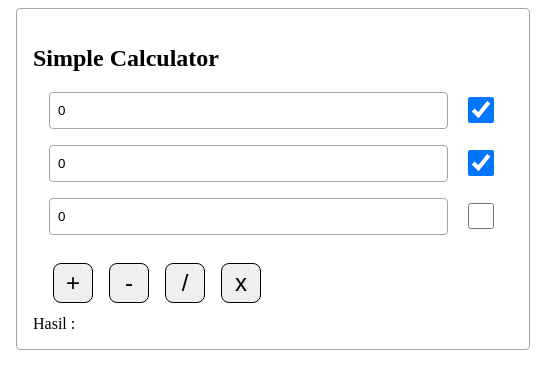
Scenario: test calculator page › test ubahCheck
Type "4" into the field with test id "input1". click: coordinates (249, 110)
box: [49,92,448,129]
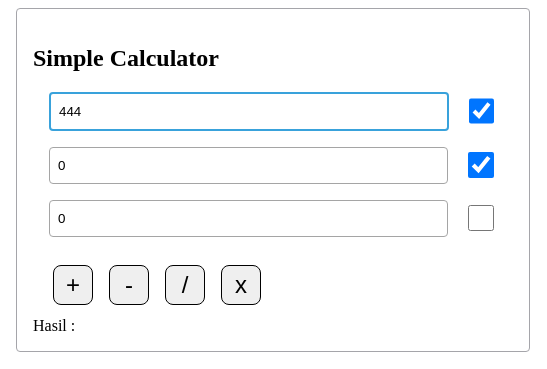
Check: the field with test id "input1" holds "444", box [49,92,449,131]
